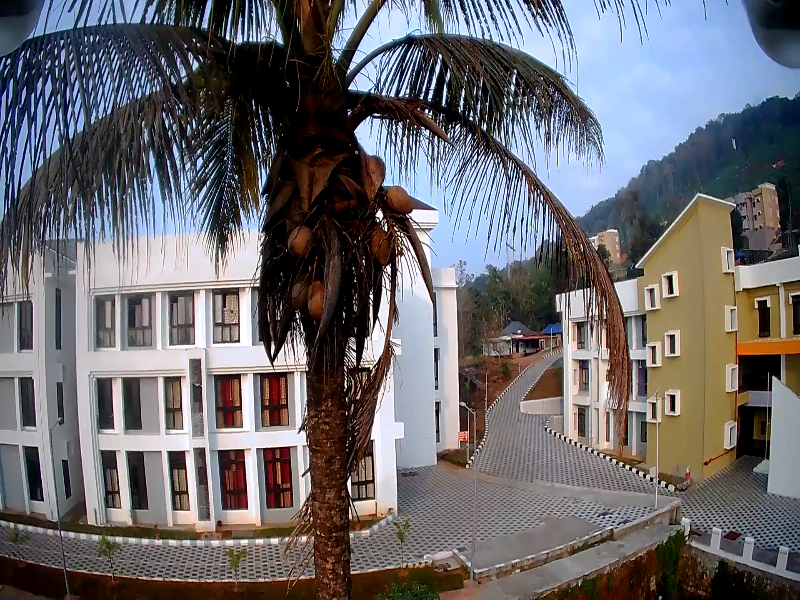coconut: (388, 177, 411, 224), (285, 225, 310, 258), (309, 279, 329, 320), (369, 228, 387, 263), (292, 280, 306, 306)
